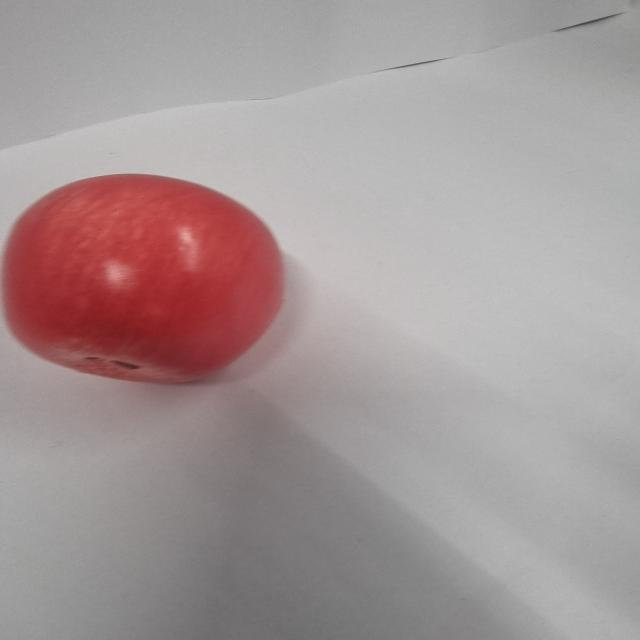apple: (2, 170, 284, 384)
